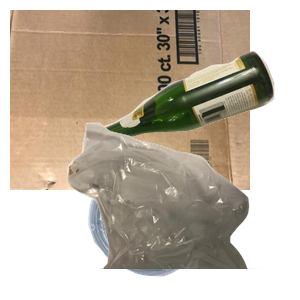cardboard: (10, 10, 250, 190)
glass: (87, 48, 300, 190)
plastic: (86, 163, 282, 300)
trash: (65, 120, 300, 300)
